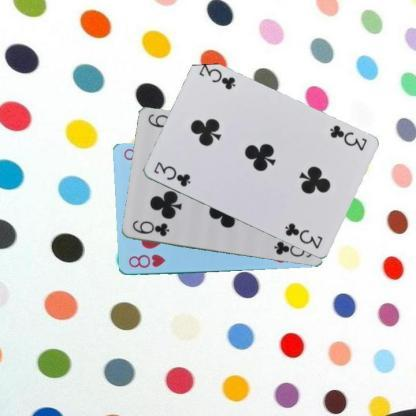3c: (326, 122, 368, 152), (150, 160, 191, 188)
6c: (130, 218, 170, 238)
8h: (126, 252, 166, 270)
